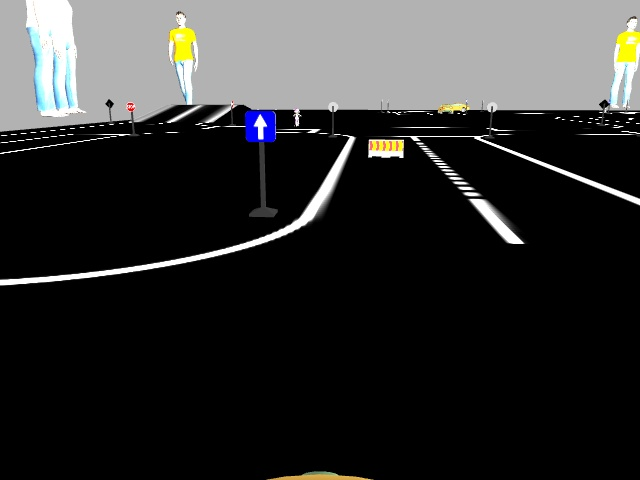ClosedRoadStand: (370, 139, 403, 155)
OneWay: (246, 112, 275, 141)
